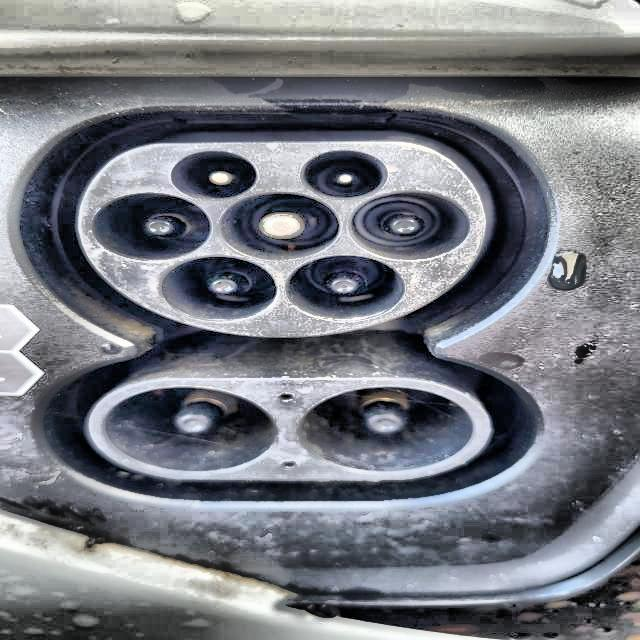inlet: (77, 142, 488, 338)
inlet-above-left: (171, 150, 259, 200)
inlet-above-right: (302, 151, 388, 199)
inlet-below-left: (160, 255, 278, 322)
inlet-below-right: (288, 255, 405, 322)
inlet-center: (218, 192, 338, 260)
inlet-center-left: (93, 194, 212, 260)
inlet-center-right: (348, 191, 469, 261)
